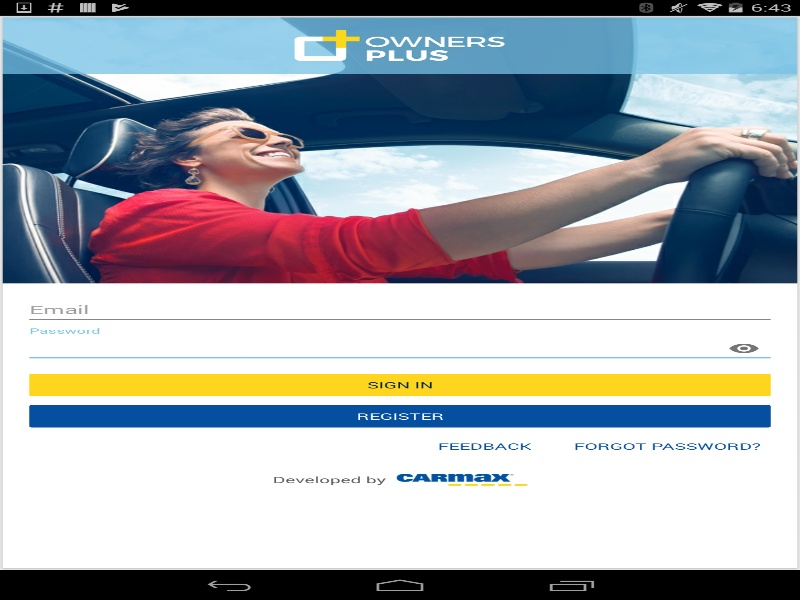Button: (24, 370, 776, 400), (24, 401, 776, 431), (557, 431, 776, 461), (421, 431, 546, 461), (712, 333, 776, 363)
Input: (24, 296, 776, 325), (24, 334, 776, 362)
